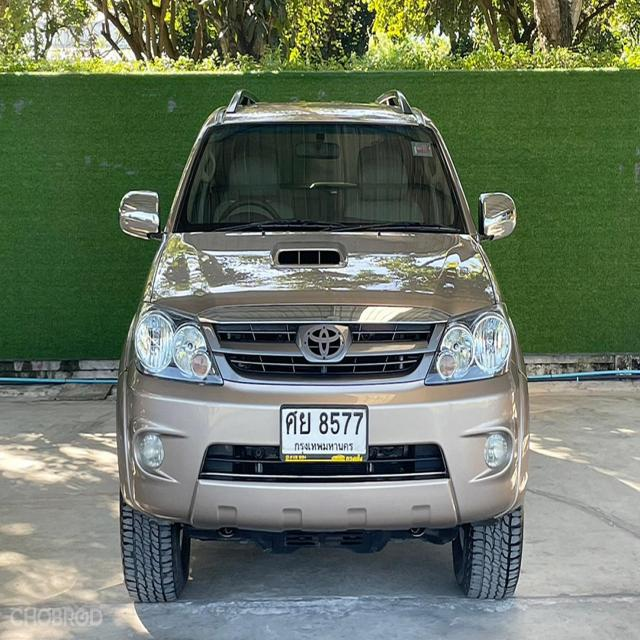license_plate: (274, 398, 373, 470)
